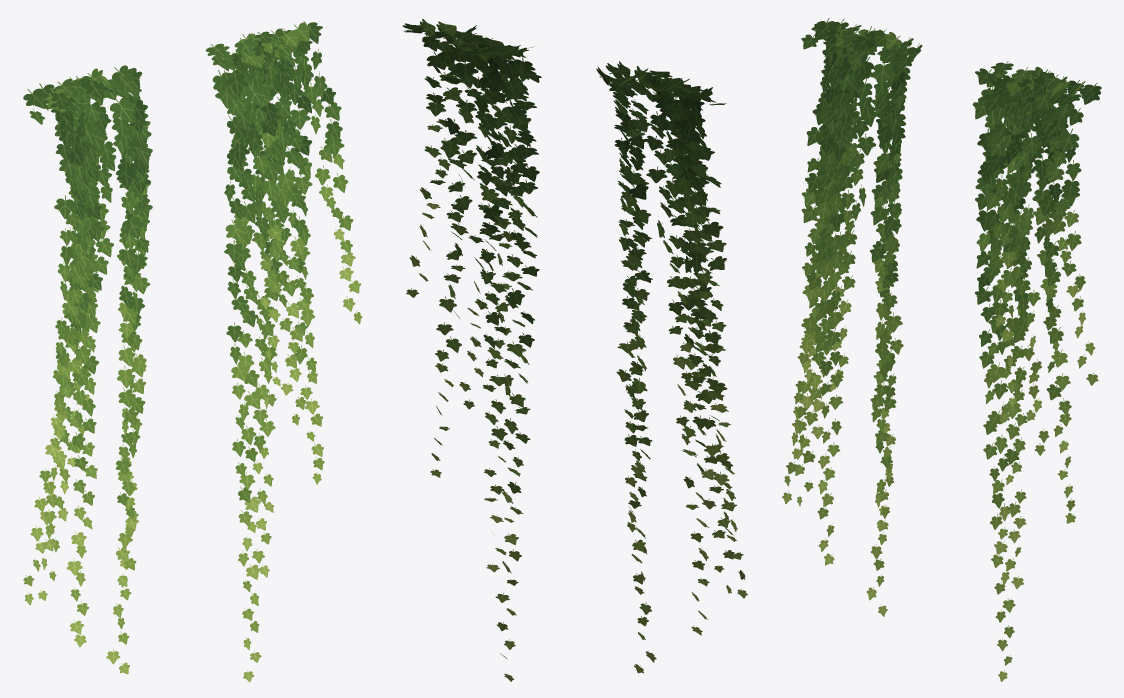
3 renders of one model, left to right at view 1: azimuth 30°, elevation 25°; view 2: azimuth 150°, elevation 25°; view 3: azimuth 330°, elevation 25°, orthographic. The views are drawn at different scales.
Parts seen in each view (by area): view 1: Mesh_ivy; view 2: Mesh_ivy; view 3: Mesh_ivy.
Boxes of the visible parts, x1=… form: Mesh_ivy: x1=23, y1=21, x2=362, y2=682; Mesh_ivy: x1=402, y1=19, x2=747, y2=681; Mesh_ivy: x1=782, y1=17, x2=1101, y2=681.
Bounding box in the file's own units: 3.8 × 6.88 × 0.7795.
Materials: 1 (1 with a texture image).
